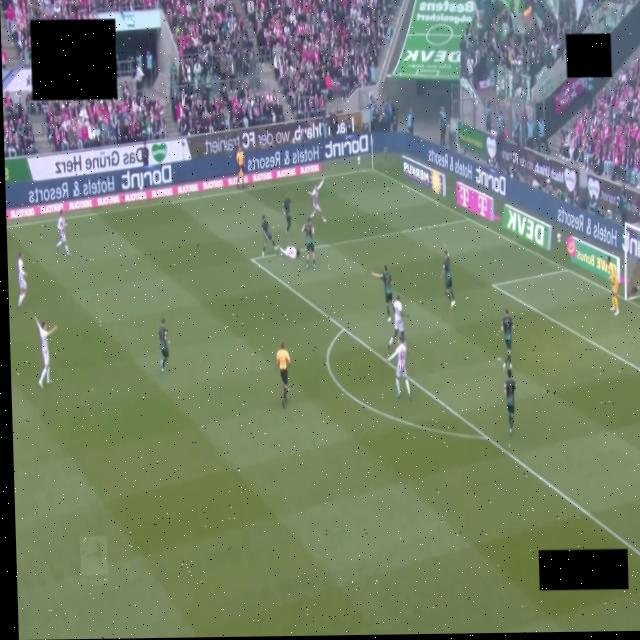player: (34, 317, 56, 387), (387, 338, 410, 400), (371, 265, 392, 321), (387, 296, 406, 350), (504, 369, 516, 436), (440, 250, 454, 307), (308, 179, 325, 221), (501, 309, 513, 368), (606, 256, 618, 315), (55, 212, 71, 256), (301, 218, 315, 268), (157, 318, 168, 373), (261, 215, 276, 255), (18, 253, 26, 308), (282, 194, 291, 235), (277, 246, 299, 259)
referee: (276, 342, 289, 408)
